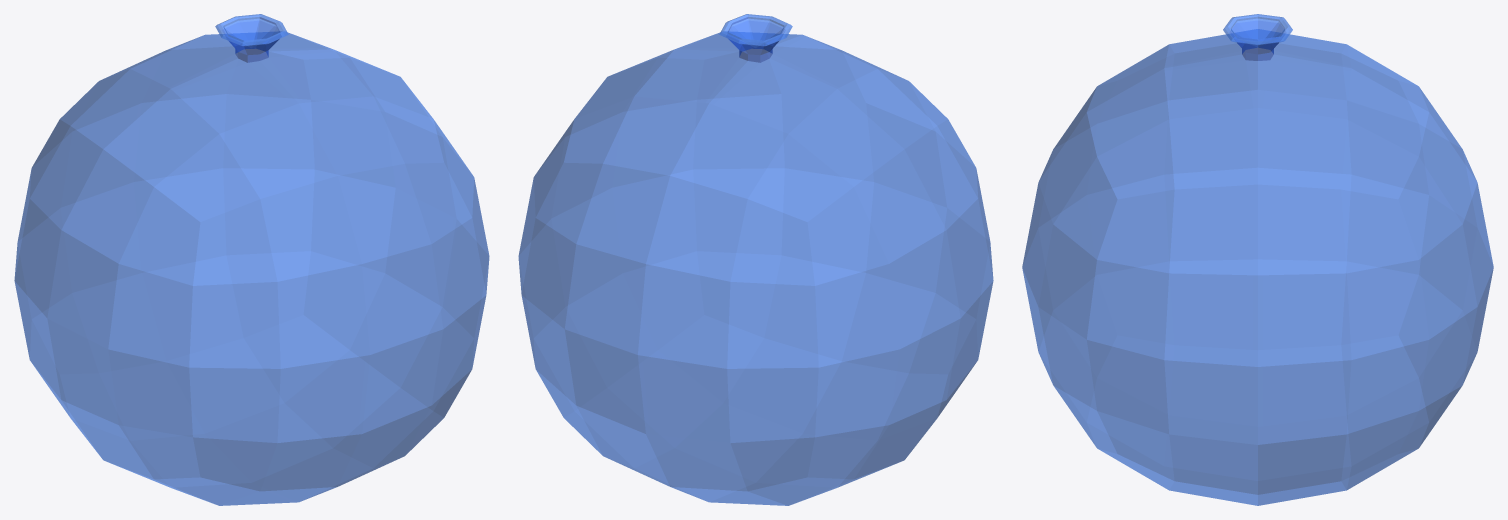
Rendered from Bexiga.fbx.
The picture shows the model from 3 angles, left to right: view 1: azimuth 30°, elevation 25°; view 2: azimuth 150°, elevation 25°; view 3: azimuth 270°, elevation 25°; orthographic projection.
Parts seen in each view (by area): view 1: Cube; view 2: Cube; view 3: Cube.
Part boxes in pixels (x1,y1,x2,y2): Cube: [14, 14, 489, 505]; Cube: [518, 14, 993, 505]; Cube: [1022, 14, 1493, 505].
Size of the model in its own units: 168 by 178 by 168.
1 material, 1 textured.
